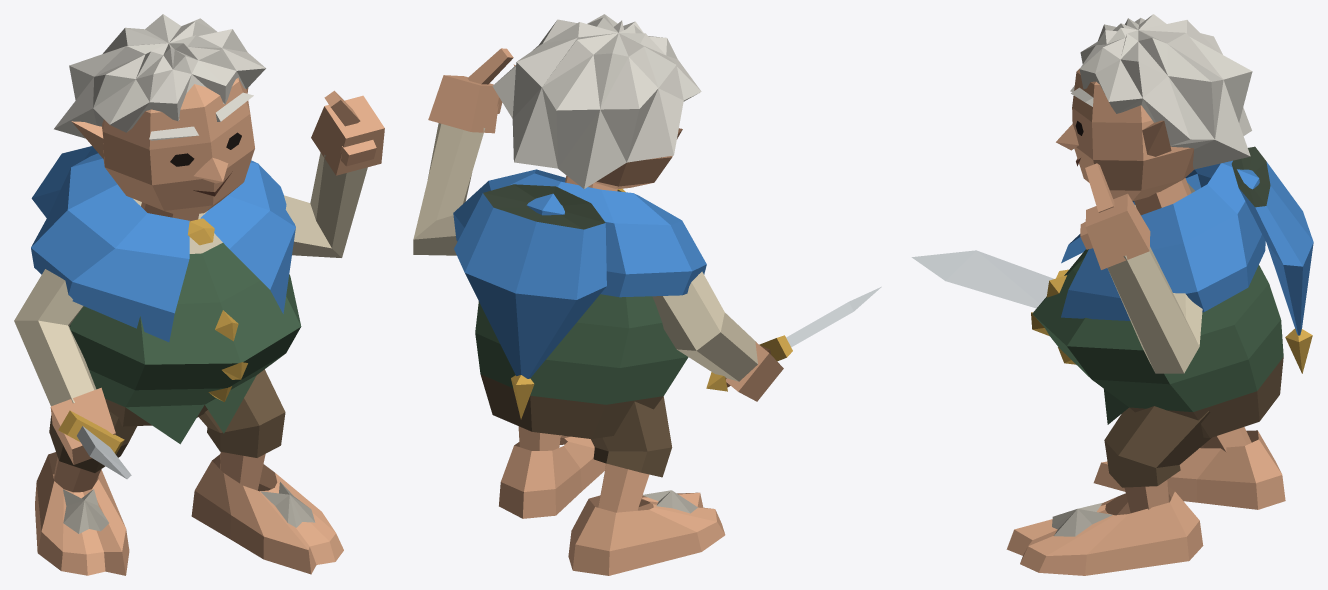
File: bilbo.glb
The picture shows the model from 3 angles, left to right: view 1: azimuth 30°, elevation 25°; view 2: azimuth 150°, elevation 25°; view 3: azimuth 270°, elevation 25°; orthographic projection. The views are drawn at different scales.
Parts seen in each view (by area): view 1: bilbo; view 2: bilbo; view 3: bilbo.
Boxes of the visible parts, box(x1,y1,x2,y2) form: bilbo: box(14, 14, 384, 575); bilbo: box(413, 14, 881, 575); bilbo: box(911, 14, 1313, 575).
Size of the model in its own units: 0.6326 by 0.8624 by 0.6387.
